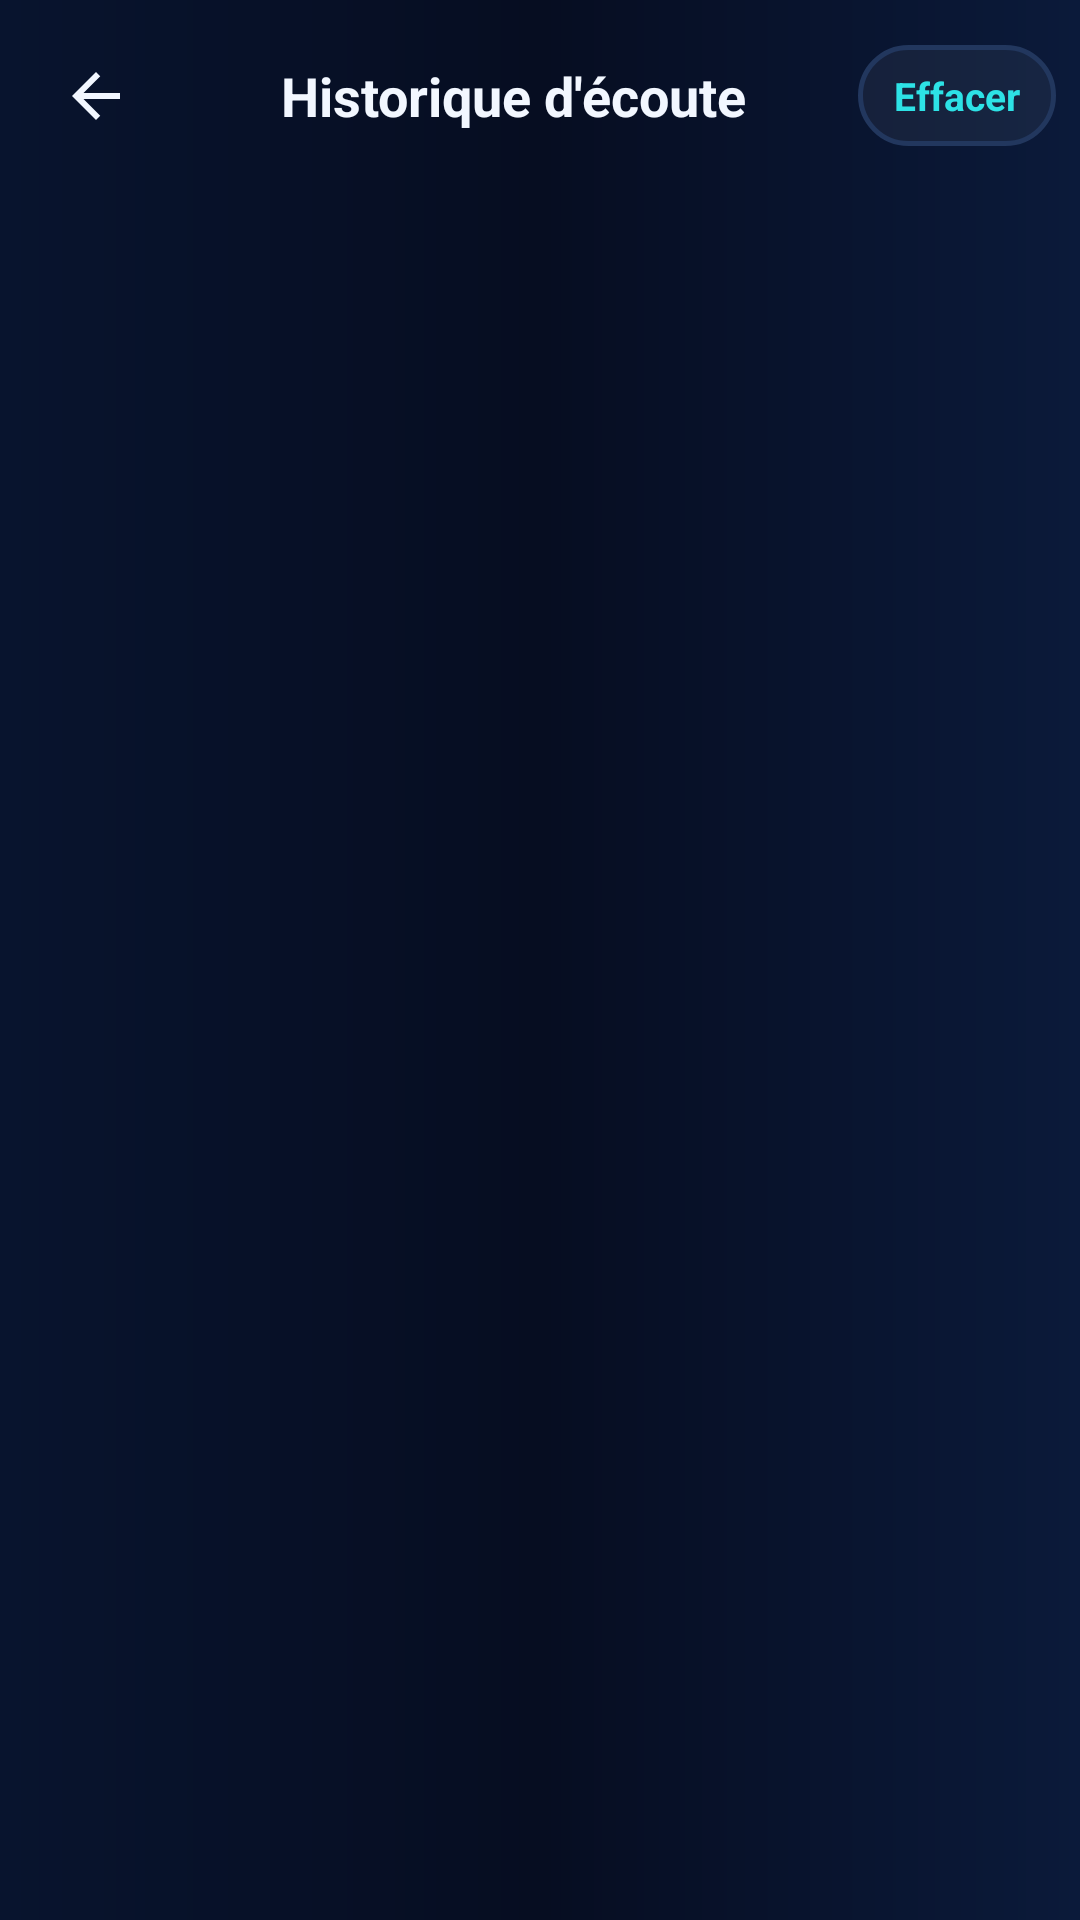

Icons on this 1080x1920 Android screen, each with its box as (x1, y1, x2, y2):
Retour: (72, 72, 120, 120)
